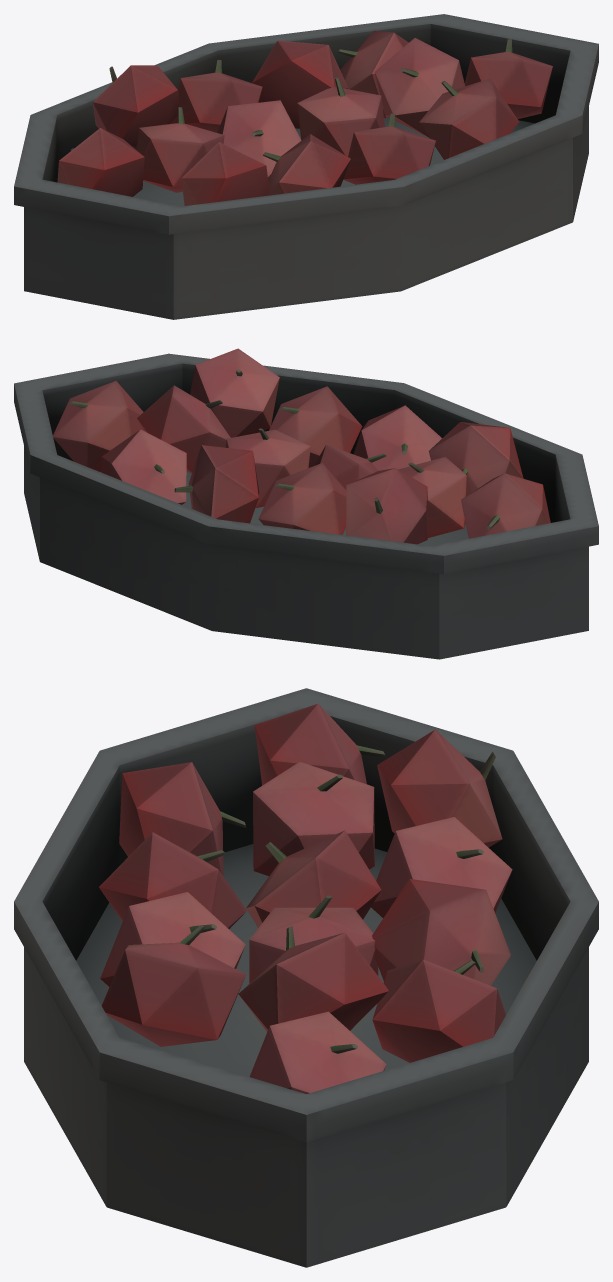
The model's file is meyva2.fbx.
3 views of the same model, one above another, from view 1: azimuth 30°, elevation 25°; view 2: azimuth 150°, elevation 25°; view 3: azimuth 270°, elevation 25° (orthographic). The views are drawn at different scales.
Visible parts, largest first — view 1: Circle.001; view 2: Circle.001; view 3: Circle.001.
Part boxes in pixels (x1=…): Circle.001: x1=14, y1=14, x2=598, y2=319; Circle.001: x1=14, y1=348, x2=598, y2=659; Circle.001: x1=14, y1=688, x2=598, y2=1267.
Size of the model in its own units: 80.44 by 20.73 by 46.6.
